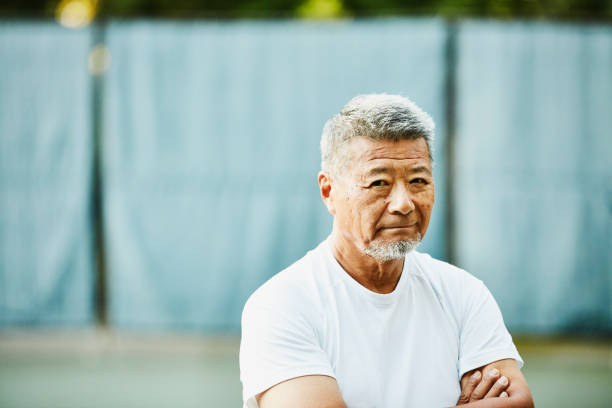person: (315, 91, 436, 266)
